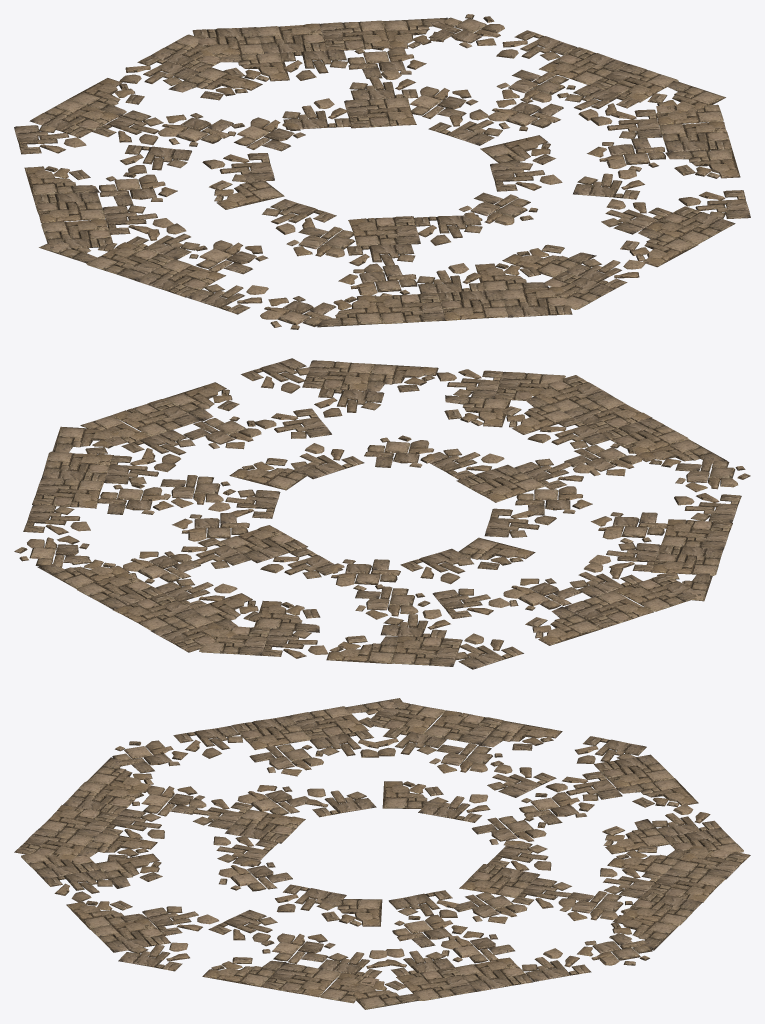
The model's file is colo2floor.FBX.
3 renders of one model, top to bottom at view 1: azimuth 30°, elevation 25°; view 2: azimuth 150°, elevation 25°; view 3: azimuth 270°, elevation 25°, orthographic. The views are drawn at different scales.
Parts seen in each view (by area): view 1: colo2flooor; view 2: colo2flooor; view 3: colo2flooor.
Part boxes in pixels (x1,y1,x2,y2): colo2flooor: (14,14,750,329); colo2flooor: (14,358,750,669); colo2flooor: (14,698,750,1009).
Size of the model in its own units: 5386 by 26.12 by 5378.
